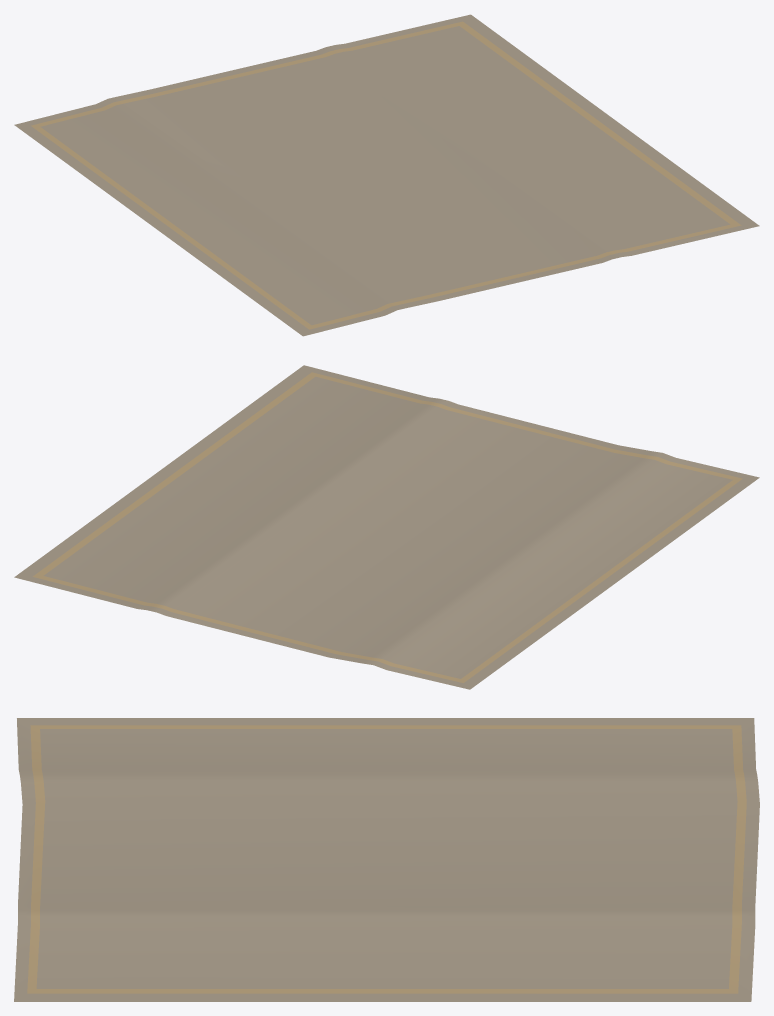
Rendered from pk_rug_sisal.glb.
The picture shows the model from 3 angles, top to bottom: view 1: azimuth 30°, elevation 25°; view 2: azimuth 150°, elevation 25°; view 3: azimuth 270°, elevation 25°; orthographic projection. The views are drawn at different scales.
Visible parts, largest first — view 1: pk_rug_sisal; view 2: pk_rug_sisal; view 3: pk_rug_sisal.
Boxes of the visible parts, box(x1,y1,x2,y2) form: pk_rug_sisal: box(14, 14, 759, 336); pk_rug_sisal: box(14, 365, 759, 689); pk_rug_sisal: box(14, 718, 759, 1001).
Size of the model in its own units: 2.7 by 0.012 by 3.
Materials: 1 (1 with a texture image).
